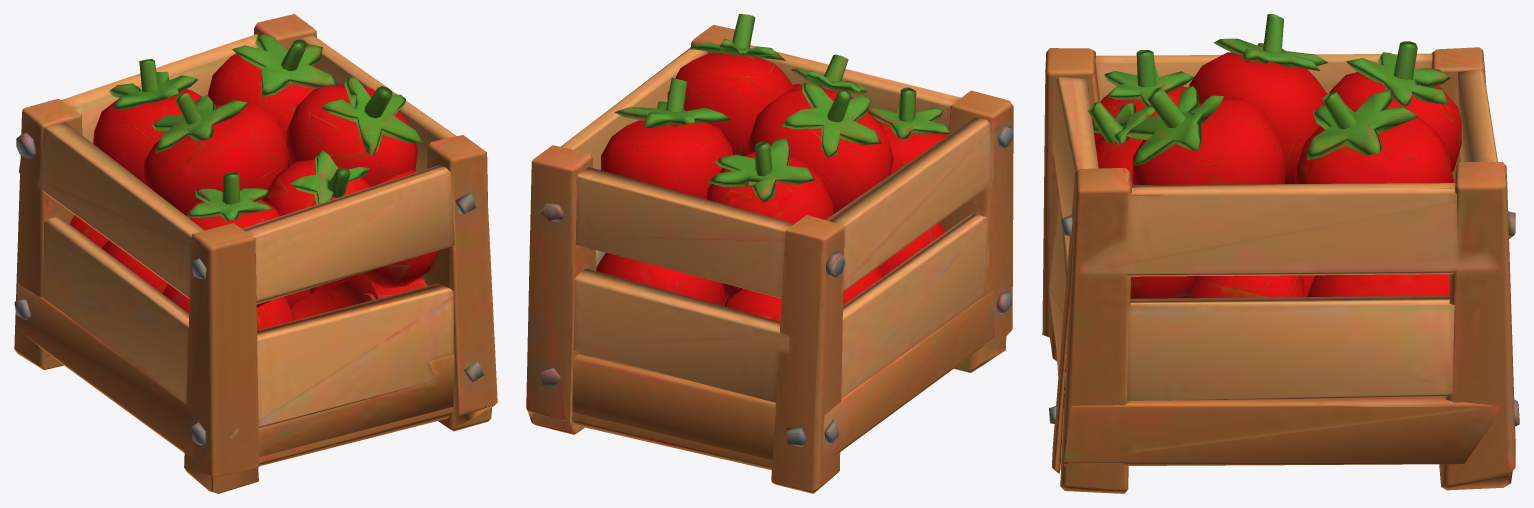
File: crate.glb
The picture shows the model from 3 angles, left to right: view 1: azimuth 30°, elevation 25°; view 2: azimuth 150°, elevation 25°; view 3: azimuth 270°, elevation 25°; orthographic projection. The views are drawn at different scales.
Bounding box in the file's own units: 0.8262 × 0.8535 × 0.998.
1 material, 1 textured.
